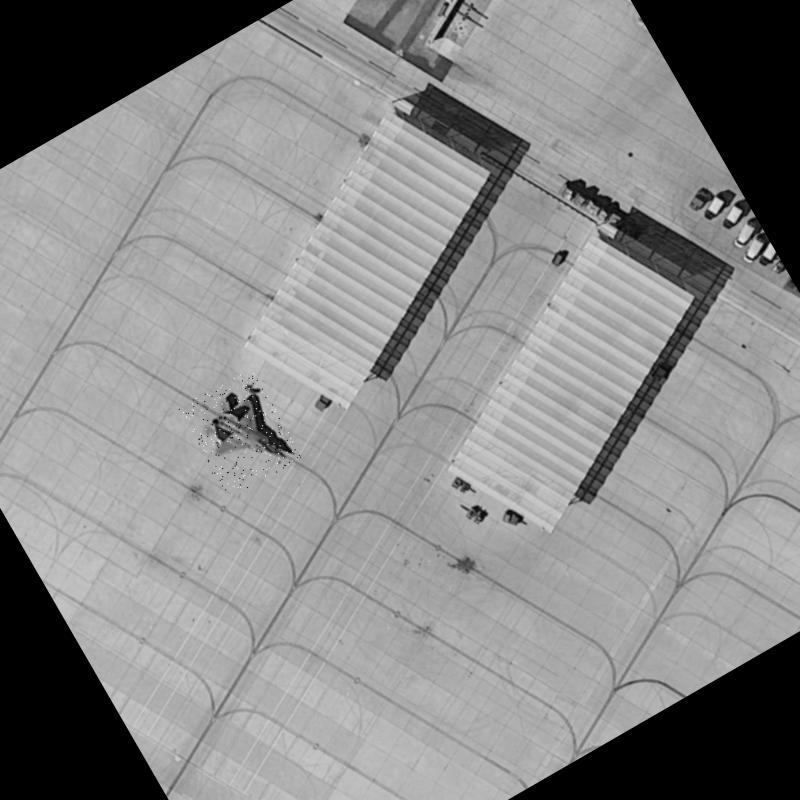A15: (176, 366, 304, 500)
